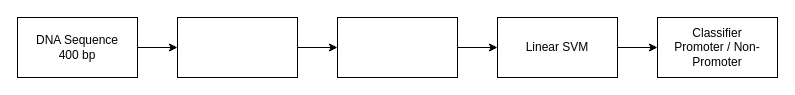
Some shapes in this 795 by 95 pixel diagram are drawn without their labels. Here are the shapes that lost their labels. From the top down, the centre of each, then its label:
At [237,47]: "k-mer Extraction k = 6".
At [397,47]: "Feature Vector 4096-dim".
